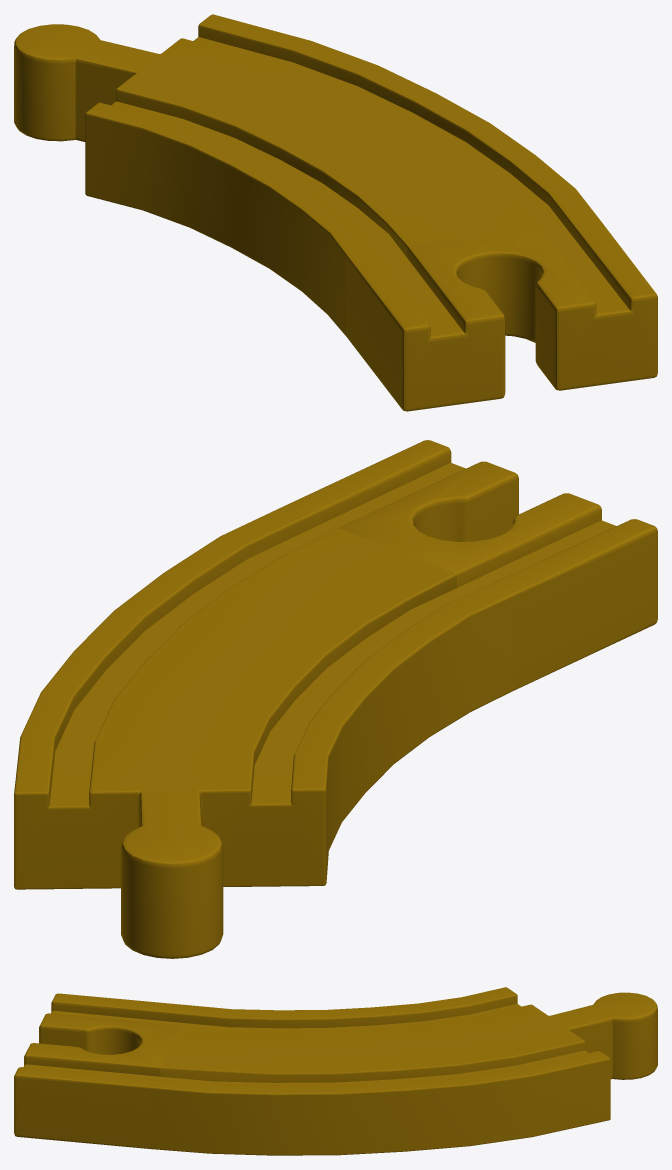
Rendered from Railway_bendS.fbx.
3 renders of one model, top to bottom at view 1: azimuth 30°, elevation 25°; view 2: azimuth 150°, elevation 25°; view 3: azimuth 270°, elevation 25°, orthographic. The views are drawn at different scales.
Visible parts, largest first — view 1: Railway_bendS_new; view 2: Railway_bendS_new; view 3: Railway_bendS_new.
Boxes of the visible parts, x1=… form: Railway_bendS_new: x1=14, y1=14, x2=657, y2=411; Railway_bendS_new: x1=14, y1=440, x2=657, y2=958; Railway_bendS_new: x1=14, y1=987, x2=657, y2=1155.
Bounding box in the file's own units: 91.73 × 25.27 × 232.
